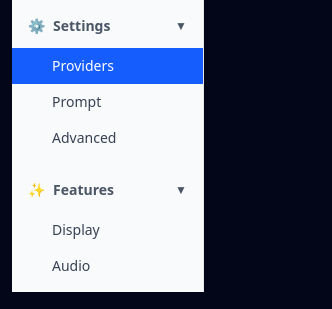
Test: SettingsSidebar › marks the active item and each section expanded state for assistive tech
This screenshot has width=332, height=309.
Click the button "⚙️ Settings ▼".
click(108, 26)  # box [12,8,203,44]
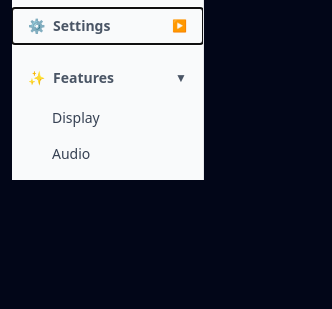
Expected: the button "⚙️ Settings ▶" is collapsed, [12,8,203,44]
